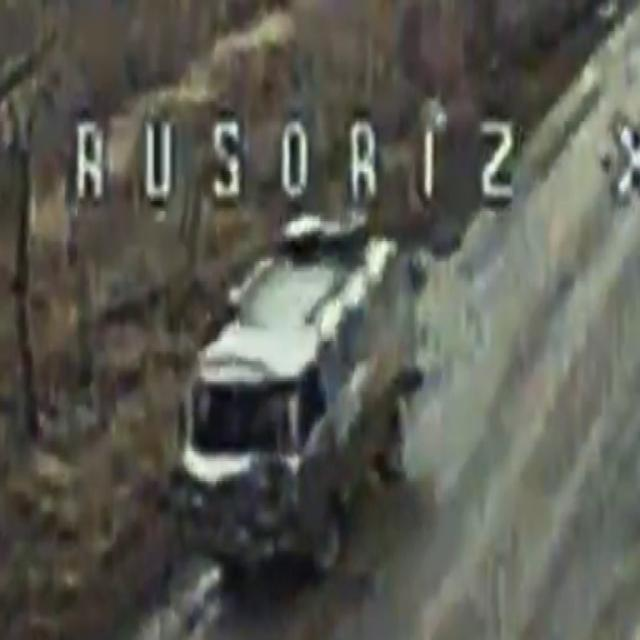CAR: (176, 216, 422, 567)
